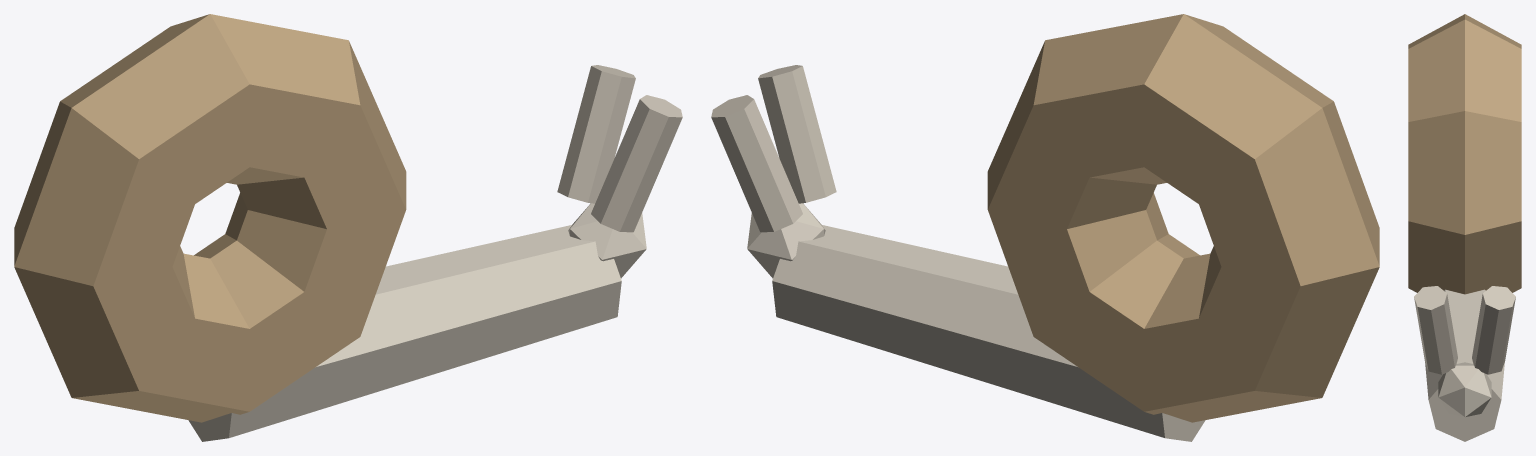
The picture shows the model from 3 angles, left to right: view 1: azimuth 30°, elevation 25°; view 2: azimuth 150°, elevation 25°; view 3: azimuth 270°, elevation 25°; orthographic projection. The views are drawn at different scales.
Parts seen in each view (by area): view 1: part0, part1, part4, part3, part2; view 2: part0, part1, part3, part4, part2; view 3: part0, part1, part3, part4, part2.
Part boxes in pixels (<box>): part0: <box>14,14,406,422</box>; part1: <box>188,224,621,441</box>; part4: <box>591,95,682,232</box>; part3: <box>557,65,635,203</box>; part2: <box>568,203,646,278</box>; part0: <box>987,14,1379,422</box>; part1: <box>772,224,1205,441</box>; part3: <box>711,95,802,232</box>; part4: <box>758,65,836,203</box>; part2: <box>747,203,825,278</box>; part0: <box>1408,14,1521,294</box>; part1: <box>1425,289,1504,441</box>; part3: <box>1472,286,1515,374</box>; part4: <box>1414,286,1457,374</box>; part2: <box>1438,362,1491,416</box>.
Bounding box in the file's own units: 3.41 × 2.16 × 0.7275.
